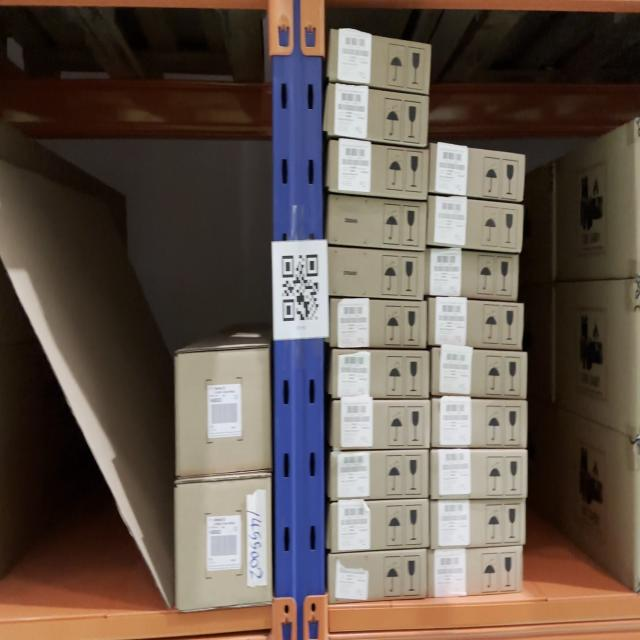box: (175, 483, 271, 605), (176, 348, 270, 469), (326, 28, 432, 95), (324, 82, 429, 149), (326, 138, 430, 199), (430, 450, 528, 500), (330, 300, 428, 350), (328, 352, 429, 398), (326, 504, 429, 549), (432, 399, 528, 447), (328, 401, 432, 445), (425, 252, 519, 298), (429, 302, 524, 346), (430, 502, 527, 544), (328, 201, 427, 242), (328, 454, 429, 494), (432, 352, 528, 394), (329, 255, 425, 297), (428, 550, 521, 590), (329, 556, 428, 592), (427, 206, 523, 243), (429, 157, 524, 191)
